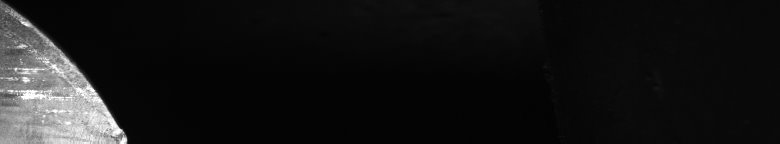kb: (5, 0, 66, 144)
